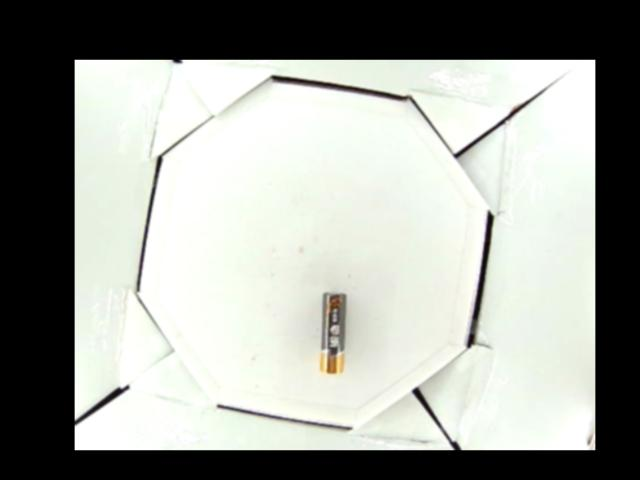Battery: (321, 291, 345, 377)
